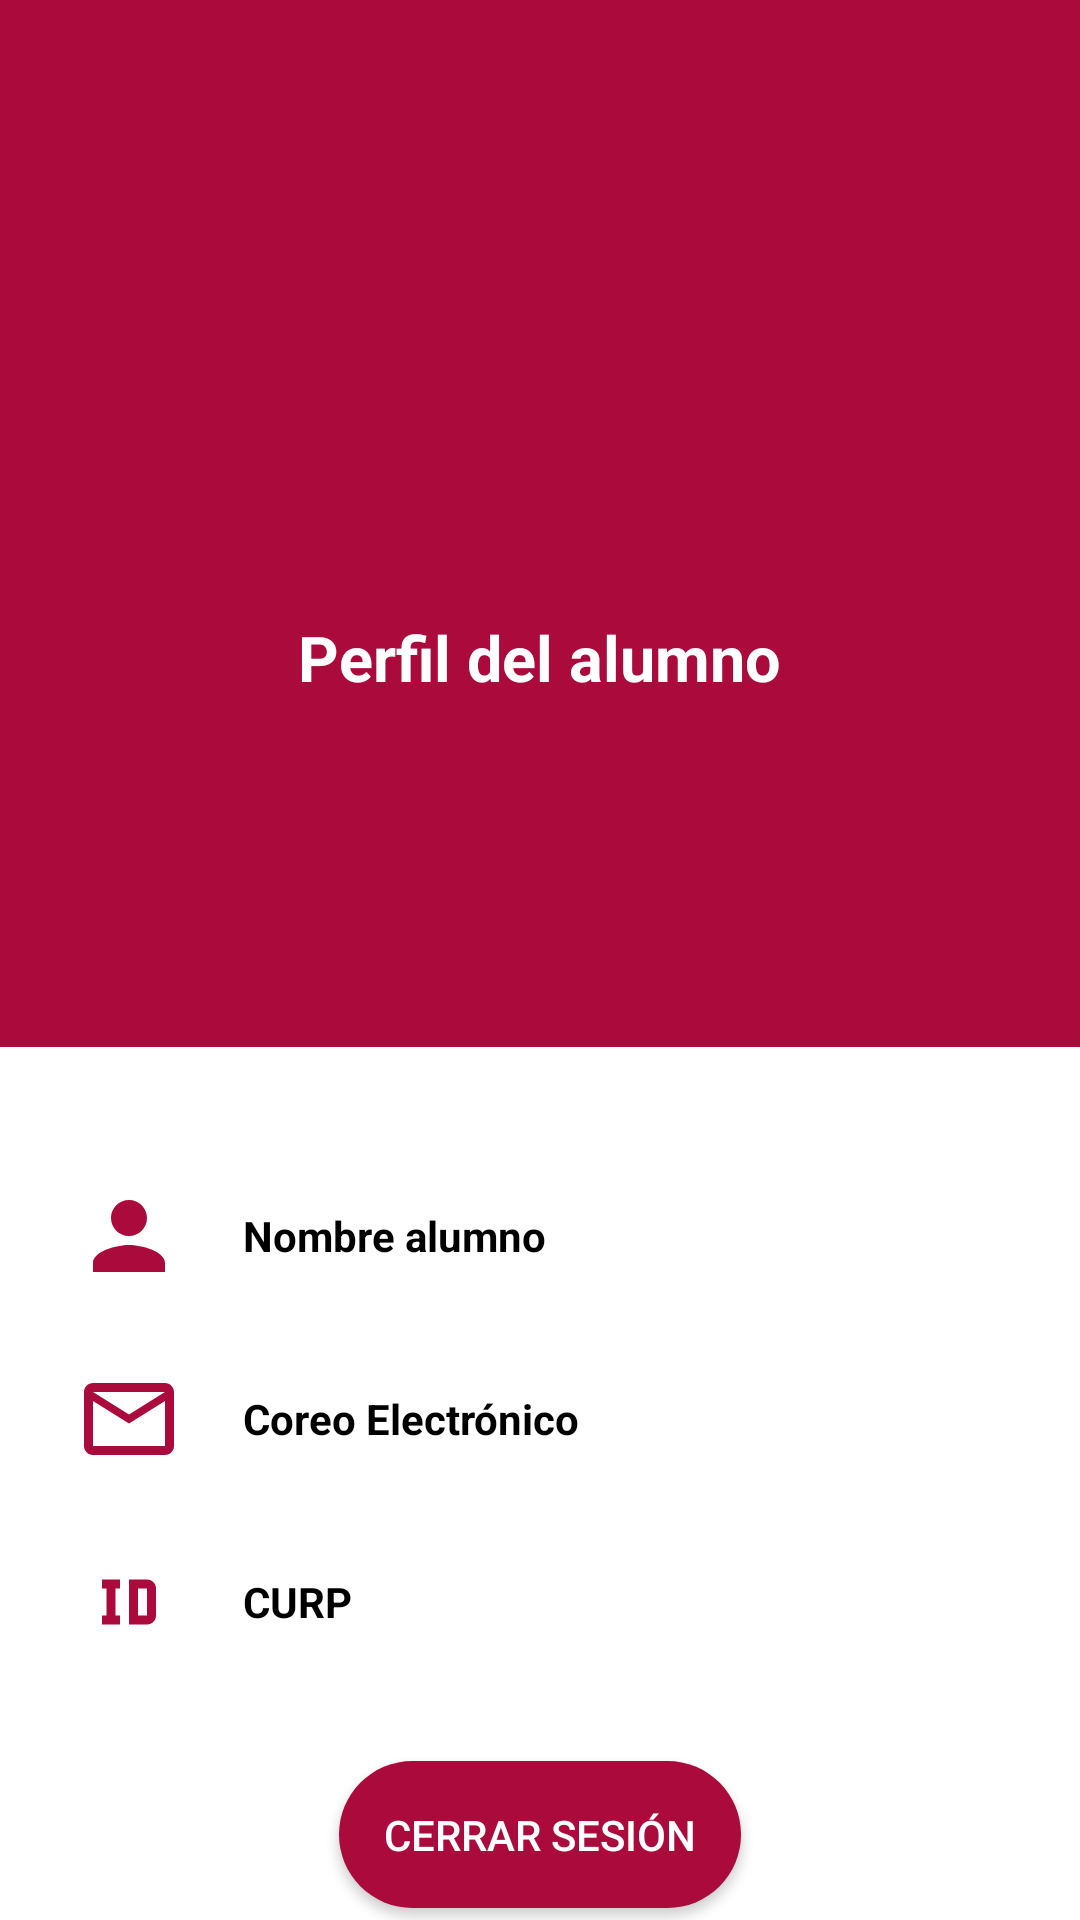

Point at icon controls on the screen. Image size 1080px×1920px, points as [x,y].
email: [129,1419]
usuario: [129,1236]
